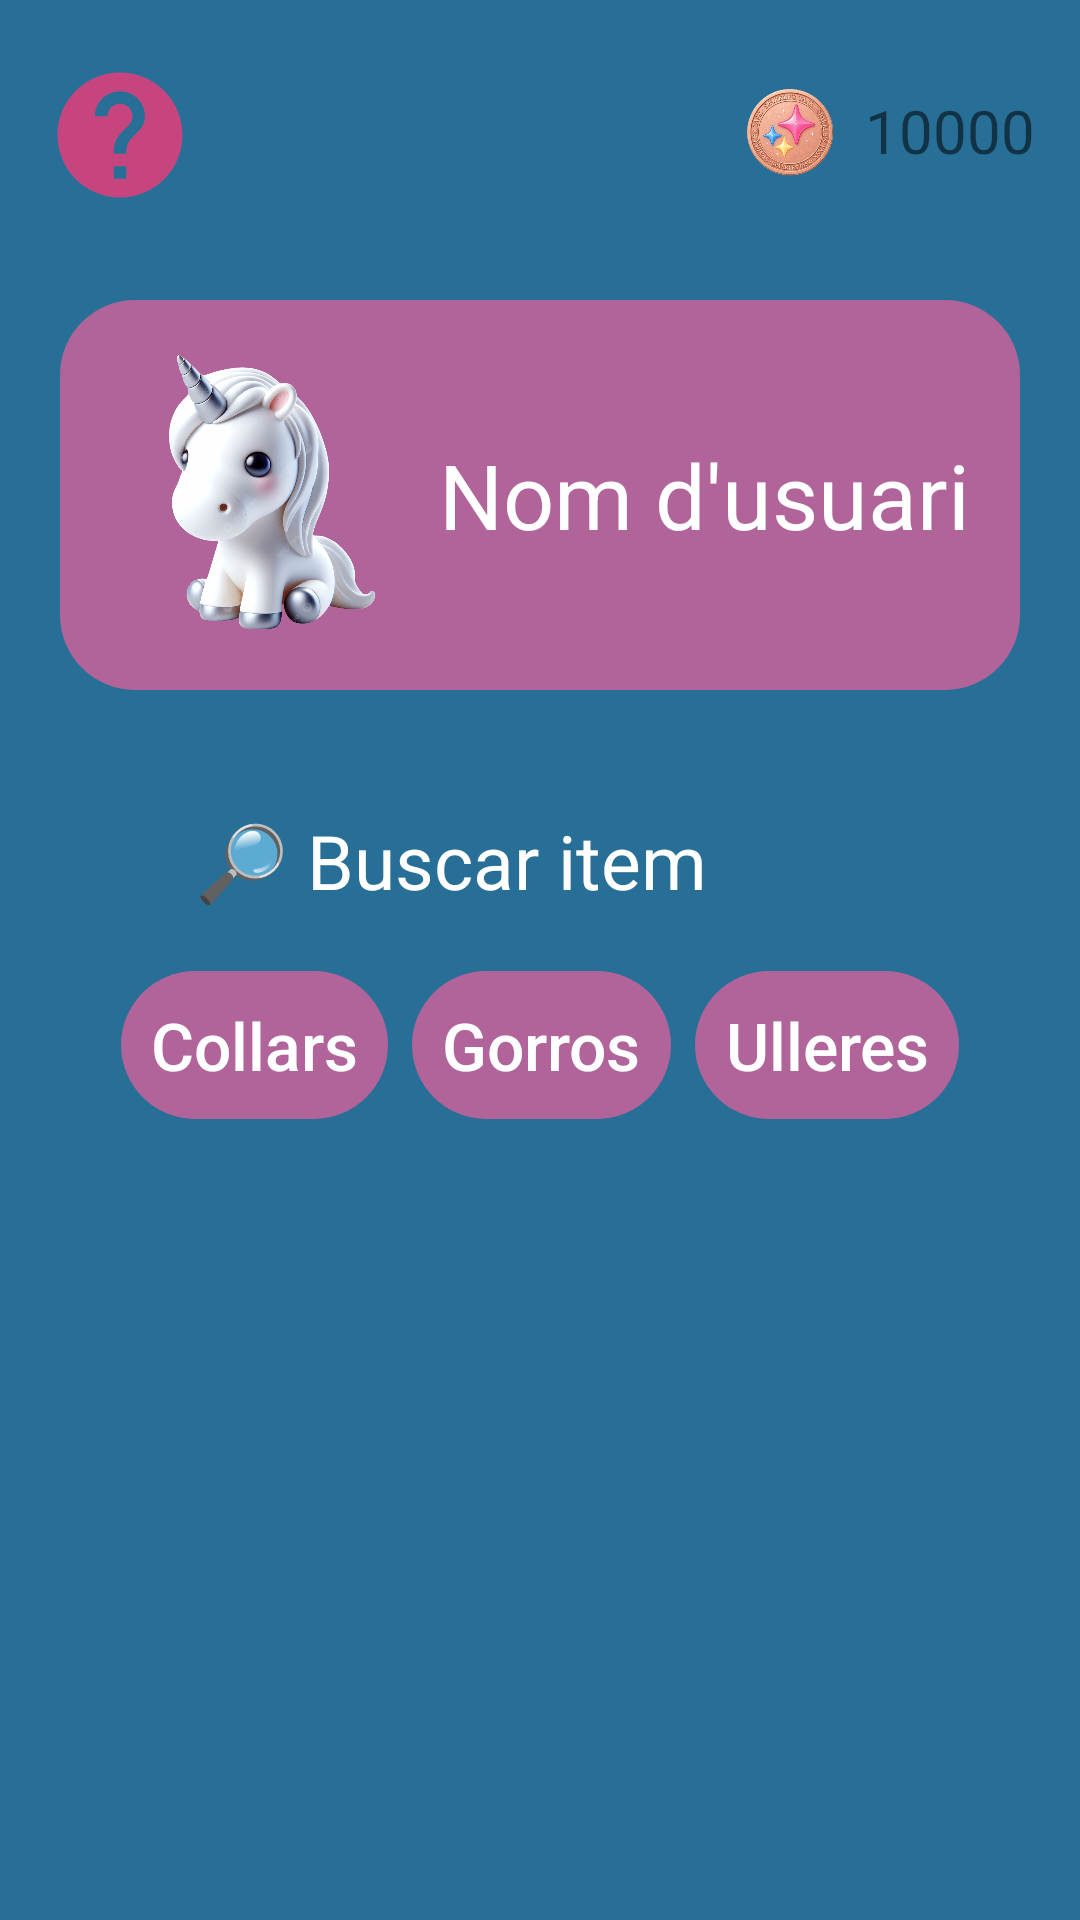

Named icons in this screenshot (1080w x 1920h) and their centers, point (x, y):
Ajuda pantalla perfil: point (120, 135)
Sparks imatge: point (790, 132)
